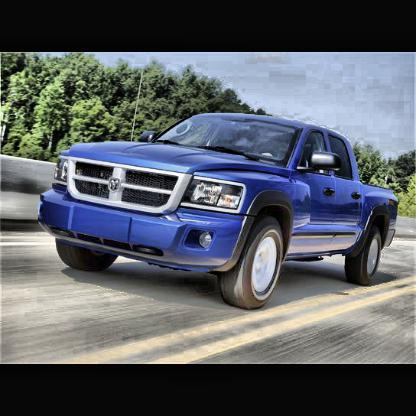Dodge Dakota Crew Cab 2010: (36, 113, 400, 311)
